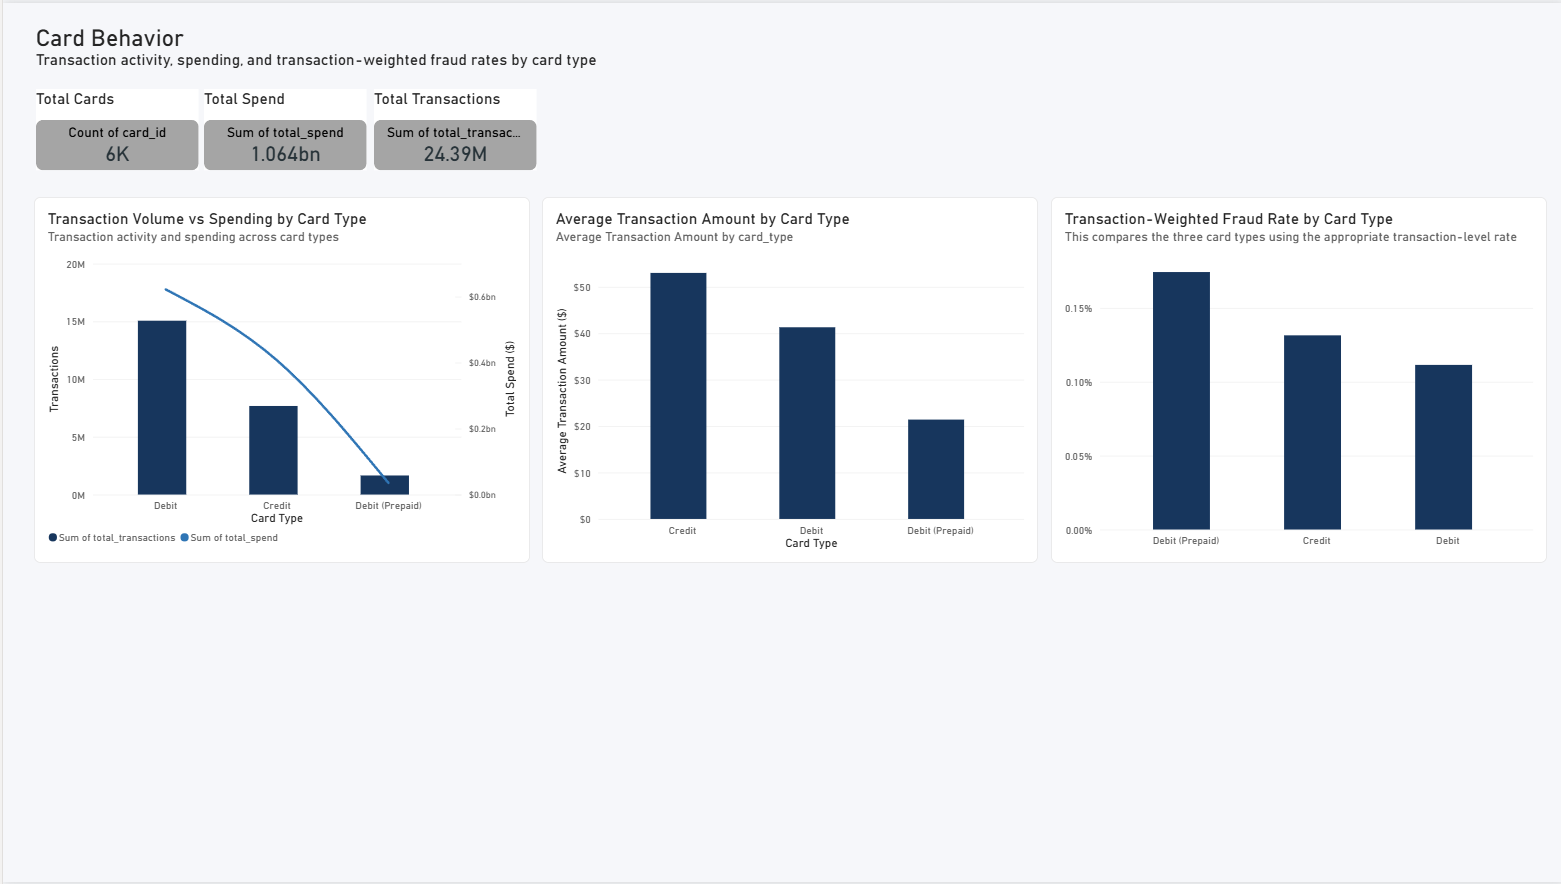

Layout of this report page (visuals, bound fields, positions):
{"tool":"powerbi","page":{"name":"Card Behavior","canvas":[1920,1080],"ordinal":1},"visuals":[{"type":"cardVisual","title":"Total Cards","fields":{"Data":["CountNonNull(Card Behavior.card_id)"]},"box":[40,105.7,200.4,100],"z":0},{"type":"cardVisual","title":"Total Transactions","fields":{"Data":["Sum(Card Behavior.total_transactions)"]},"box":[455.8,105.5,200,100],"z":1000},{"type":"cardVisual","title":"Total Spend","fields":{"Data":["Sum(Card Behavior.total_spend)"]},"box":[247.1,105.5,200,100],"z":2000},{"type":"clusteredColumnChart","title":"Transaction-Weighted Fraud Rate by Card Type","fields":{"Category":["Card Behavior.card_type"],"Y":["Card Behavior.Transaction Weighted Fraud Rate"]},"box":[1288.6,238.6,610,450],"z":3000},{"type":"textbox","box":[40,25.7,707.1,72.9],"z":4000},{"type":"lineClusteredColumnComboChart","title":"Transaction Volume vs Spending by Card Type","fields":{"Category":["Card Behavior.card_type"],"Y":["Sum(Card Behavior.total_transactions)"],"Y2":["Sum(Card Behavior.total_spend)"]},"box":[38.6,238.6,610,450],"z":5000},{"type":"clusteredColumnChart","title":"Average Transaction Amount by Card Type","fields":{"Category":["Card Behavior.card_type"],"Y":["Card Behavior.Average Transaction Amount"]},"box":[662.9,238.6,610,450],"z":6000}]}

Visuals, with their boxes in screenshot pixels (x1, y1, x2, y2), scaled from the page's 1920x1080 canvas onto the 1561x884 screenshot:
"Total Cards" cardVisual: {"x1": 33, "y1": 87, "x2": 195, "y2": 168}
"Total Transactions" cardVisual: {"x1": 371, "y1": 86, "x2": 533, "y2": 168}
"Total Spend" cardVisual: {"x1": 201, "y1": 86, "x2": 364, "y2": 168}
"Transaction-Weighted Fraud Rate by Card Type" clusteredColumnChart: {"x1": 1048, "y1": 195, "x2": 1544, "y2": 564}
textbox: {"x1": 33, "y1": 21, "x2": 607, "y2": 81}
"Transaction Volume vs Spending by Card Type" lineClusteredColumnComboChart: {"x1": 31, "y1": 195, "x2": 527, "y2": 564}
"Average Transaction Amount by Card Type" clusteredColumnChart: {"x1": 539, "y1": 195, "x2": 1035, "y2": 564}
